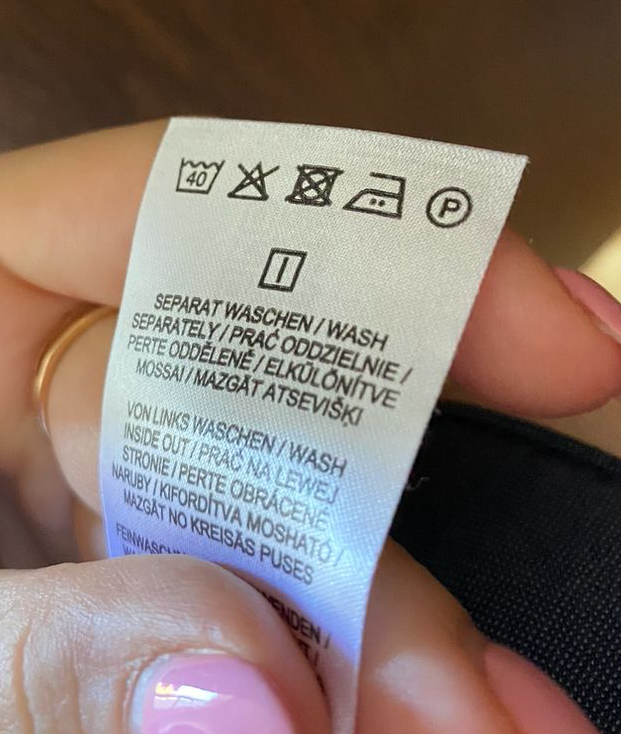do_not_bleach: (223, 160, 283, 204)
do_not_tumble_drying: (282, 161, 345, 208)
dry_clean_tetrachloroethylene_pce_only: (422, 184, 474, 230)
ironing_at_med_temp: (342, 169, 409, 218)
line_dry: (255, 245, 310, 294)
wash_at_or_below_40: (171, 154, 226, 197)
